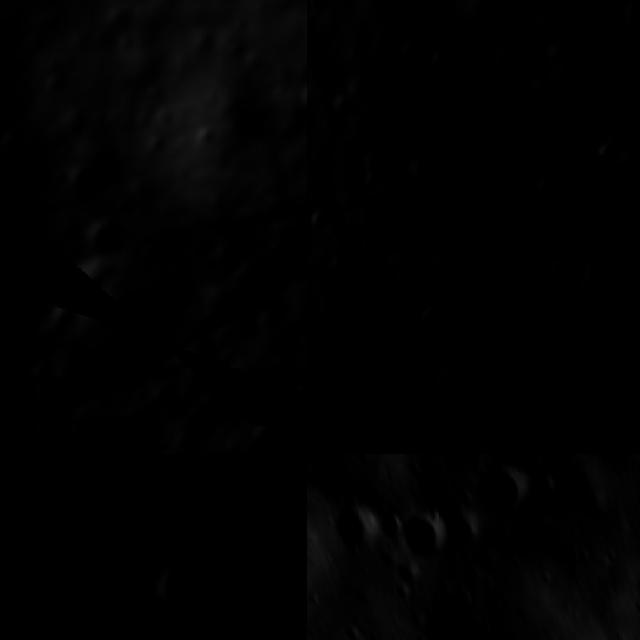crater: (68, 282, 192, 415), (132, 530, 245, 640), (67, 198, 145, 278), (427, 362, 498, 420), (403, 511, 463, 577), (473, 460, 539, 517), (350, 360, 410, 422), (268, 61, 307, 155), (326, 498, 386, 559), (399, 300, 464, 356), (211, 608, 307, 640), (144, 511, 196, 562), (447, 507, 495, 558), (427, 40, 470, 87), (544, 248, 587, 294), (494, 137, 536, 179), (464, 262, 502, 304), (448, 120, 486, 158), (307, 204, 341, 235), (613, 204, 640, 242), (290, 454, 307, 508), (360, 166, 386, 198), (398, 39, 427, 67), (552, 40, 574, 76), (326, 250, 352, 280), (331, 94, 359, 120), (573, 147, 598, 169), (468, 214, 489, 240), (387, 430, 410, 452), (307, 165, 325, 192), (600, 142, 616, 171), (357, 0, 402, 10), (629, 0, 640, 37), (563, 0, 602, 8)
